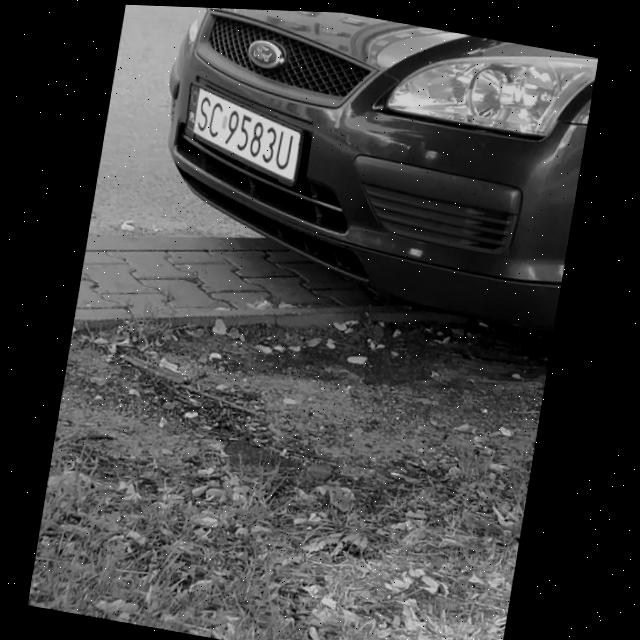license-plates: (187, 85, 300, 184)
